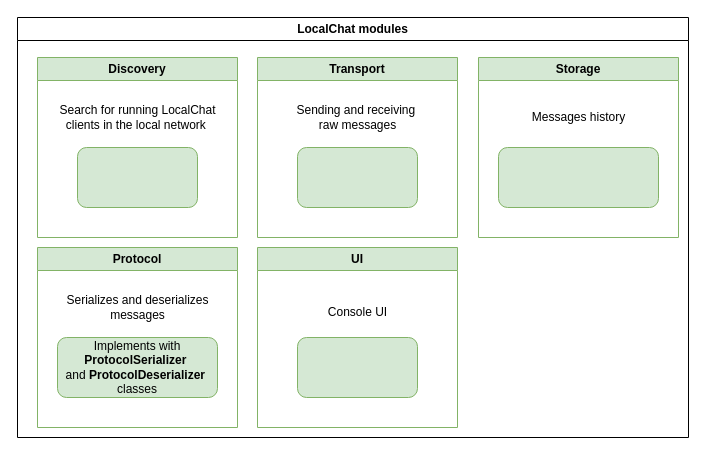
Image size: 706x455. Some labels were removed from this diagram. Each missing label, with the centre of its shape:
"Implements with Discovery class" goes at point (137, 177).
"Implements with Storage class" goes at point (578, 177).
"Implements with TransportClient and TransportServer classes" goes at point (357, 177).
"Implements with UI class" goes at point (357, 367).
